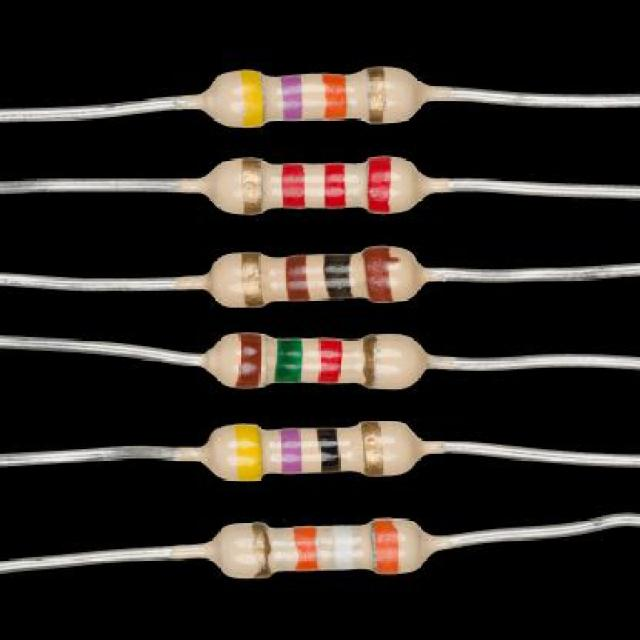Capacitor: (0, 66, 640, 632)
